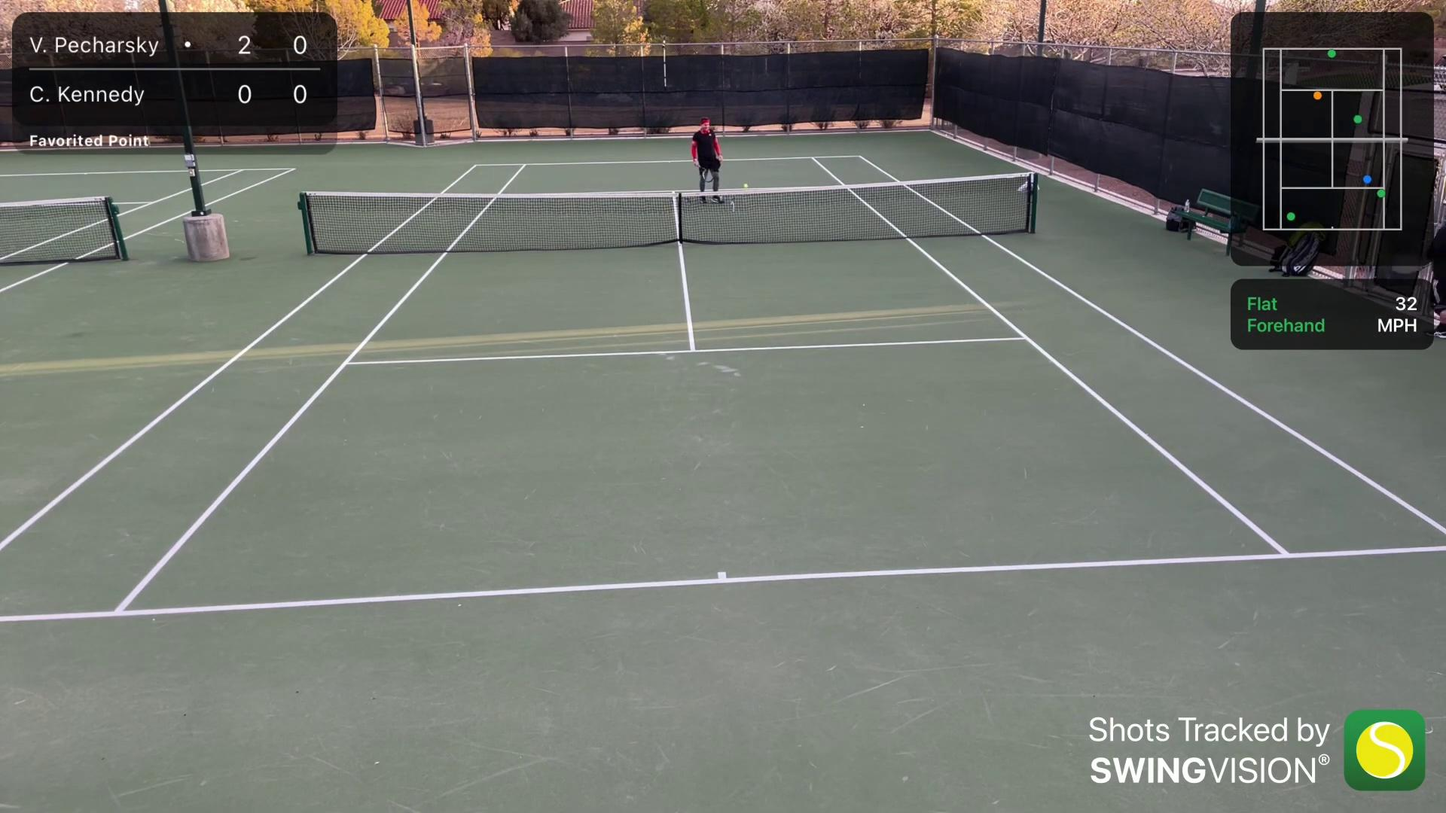ball: (743, 183, 750, 189)
